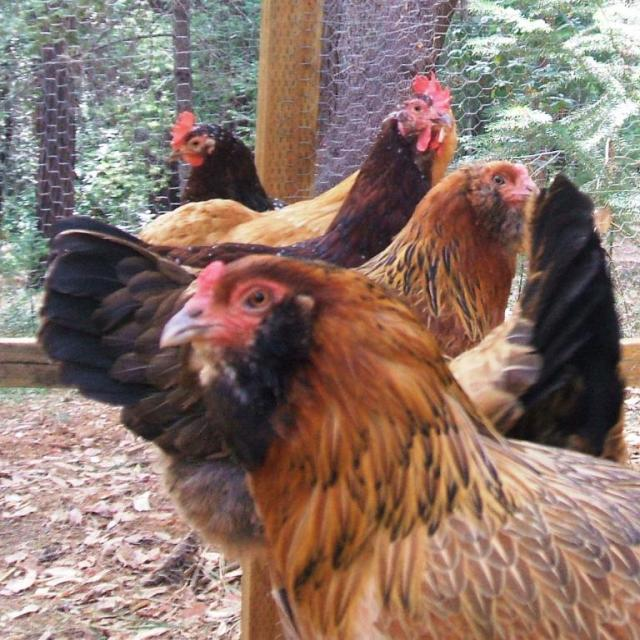Chicken: (35, 70, 640, 640)
